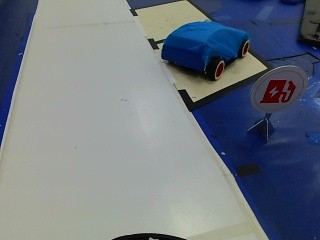battery: (254, 65, 304, 117)
car: (155, 13, 253, 89)
